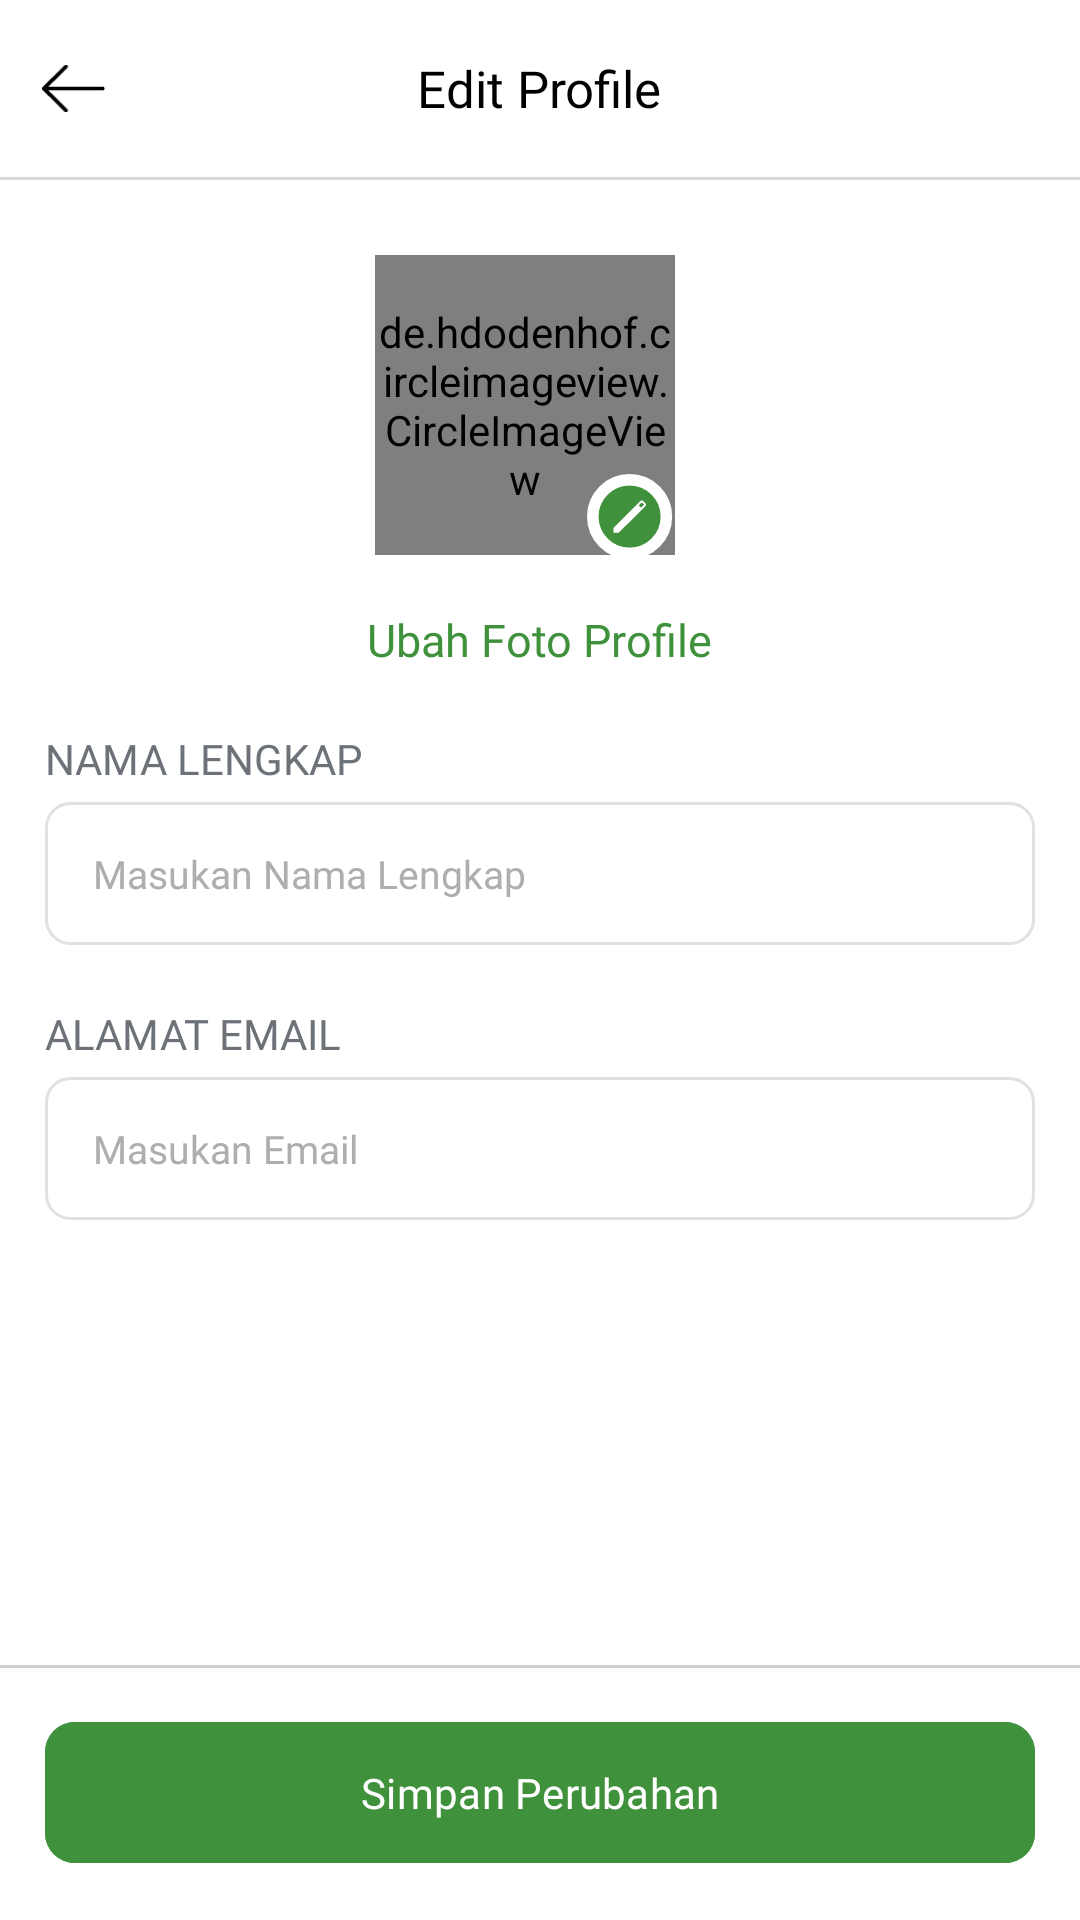

Where to tap for icons on this 1080x1920 app screen, as [x,y]:
arrow left: [73,88]
edit: [615,502]
